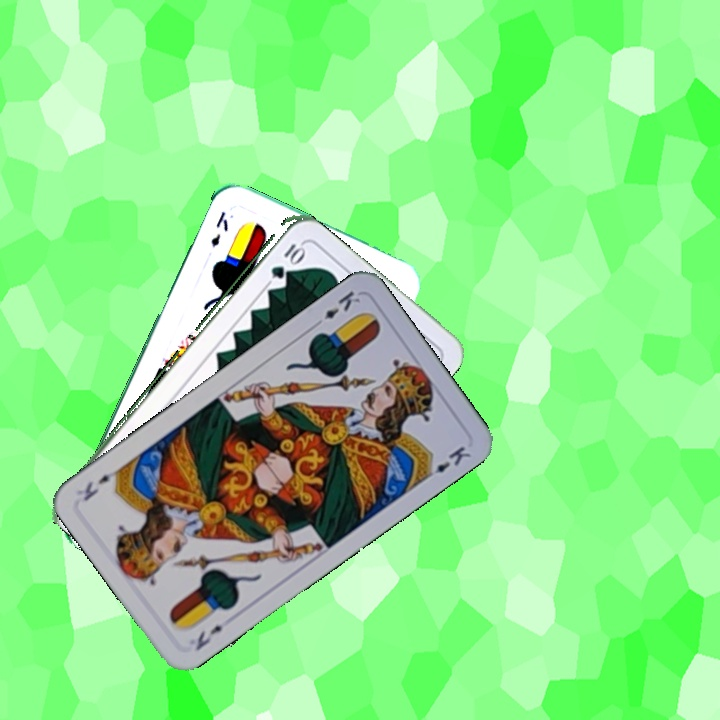EK: (309, 286, 363, 330), (191, 620, 226, 654), (206, 207, 231, 250)
G10: (266, 239, 306, 281)
